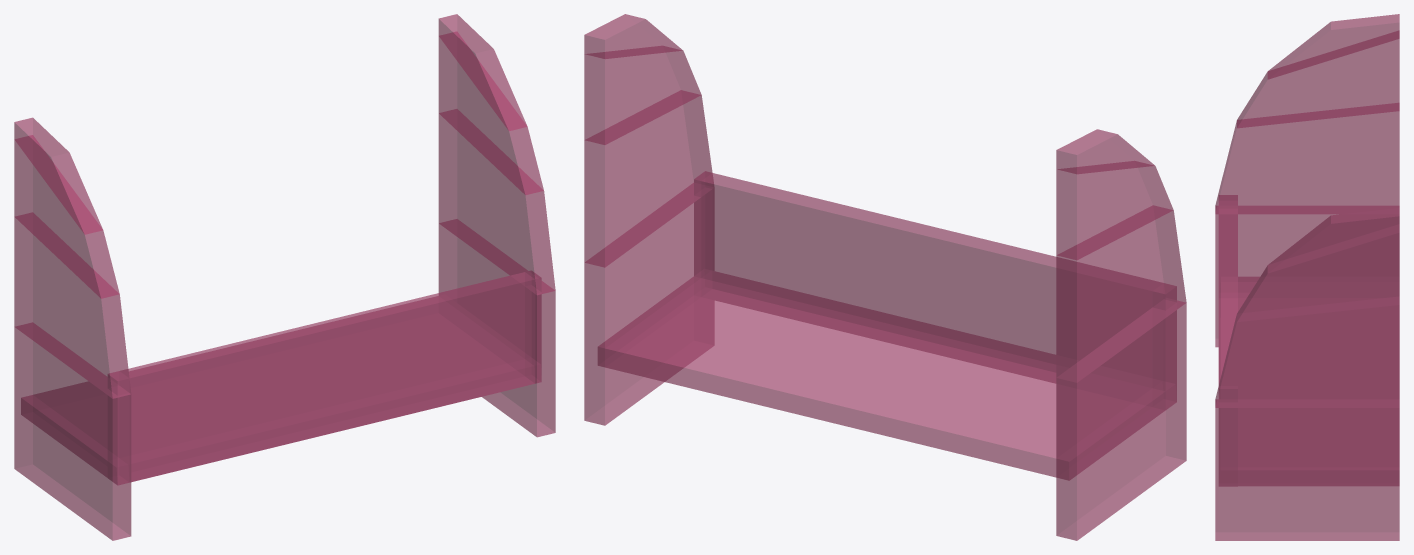
The model's file is SM_Bld_Balcony_01_Collision.fbx.
3 views of the same model, side by side, from view 1: azimuth 30°, elevation 25°; view 2: azimuth 150°, elevation 25°; view 3: azimuth 270°, elevation 25° (orthographic). The views are drawn at different scales.
Parts seen in each view (by area): view 1: SM_Bld_Balcony_01_Collision; view 2: SM_Bld_Balcony_01_Collision; view 3: SM_Bld_Balcony_01_Collision.
Part boxes in pixels (x1=…): SM_Bld_Balcony_01_Collision: x1=14, y1=14, x2=555, y2=540; SM_Bld_Balcony_01_Collision: x1=584, y1=14, x2=1186, y2=540; SM_Bld_Balcony_01_Collision: x1=1215, y1=14, x2=1399, y2=540.
Bounding box in the file's own units: 501 × 375 × 193.
